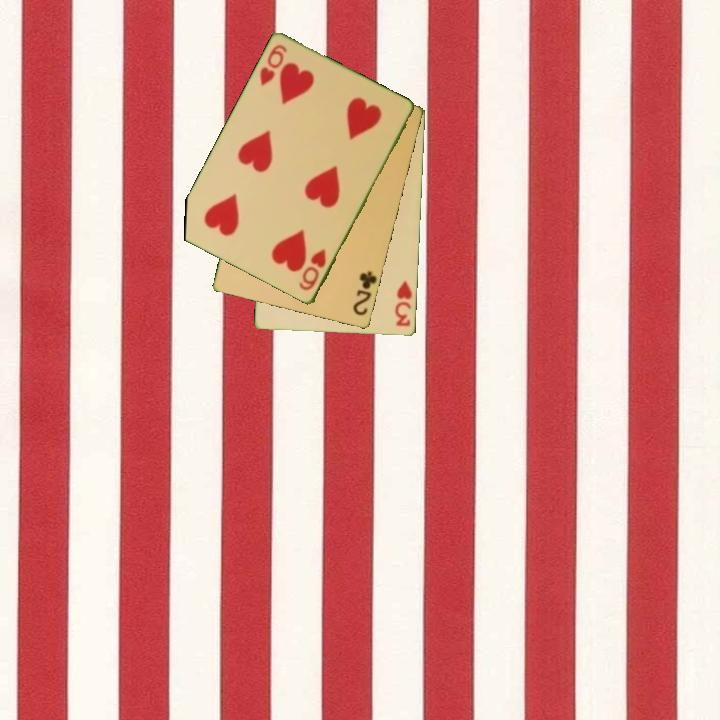2c: (350, 268, 380, 319)
3h: (391, 277, 415, 330)
6h: (295, 245, 329, 294), (256, 41, 290, 89)
